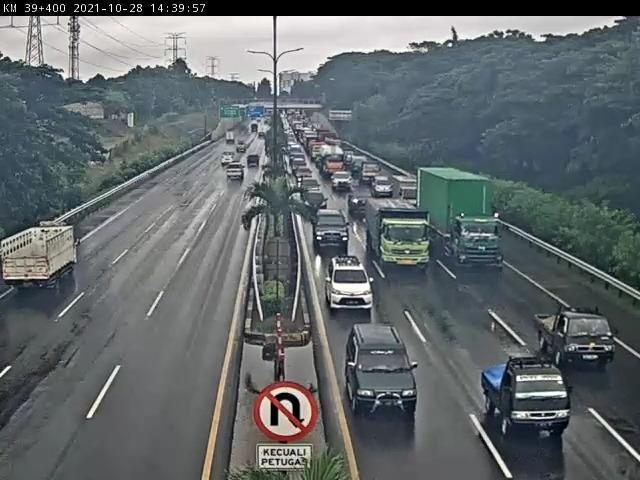car: (481, 358, 573, 437), (345, 326, 414, 412), (536, 308, 619, 367), (324, 256, 375, 311), (312, 211, 350, 248), (303, 189, 327, 215), (360, 161, 382, 186), (349, 188, 371, 211), (373, 175, 395, 195), (332, 170, 351, 189)
truck: (419, 167, 496, 263), (1, 219, 83, 291), (365, 200, 427, 263), (393, 174, 421, 202)
